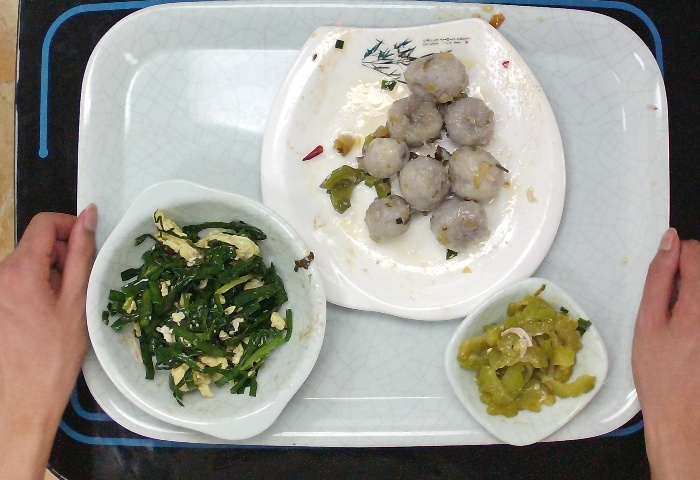JYsf-Mian_Pan: (258, 16, 568, 322)
JYsf-Shuang_Er_Wan: (84, 178, 327, 441)
JYsf-Si_Fang_Die: (440, 275, 610, 448)
